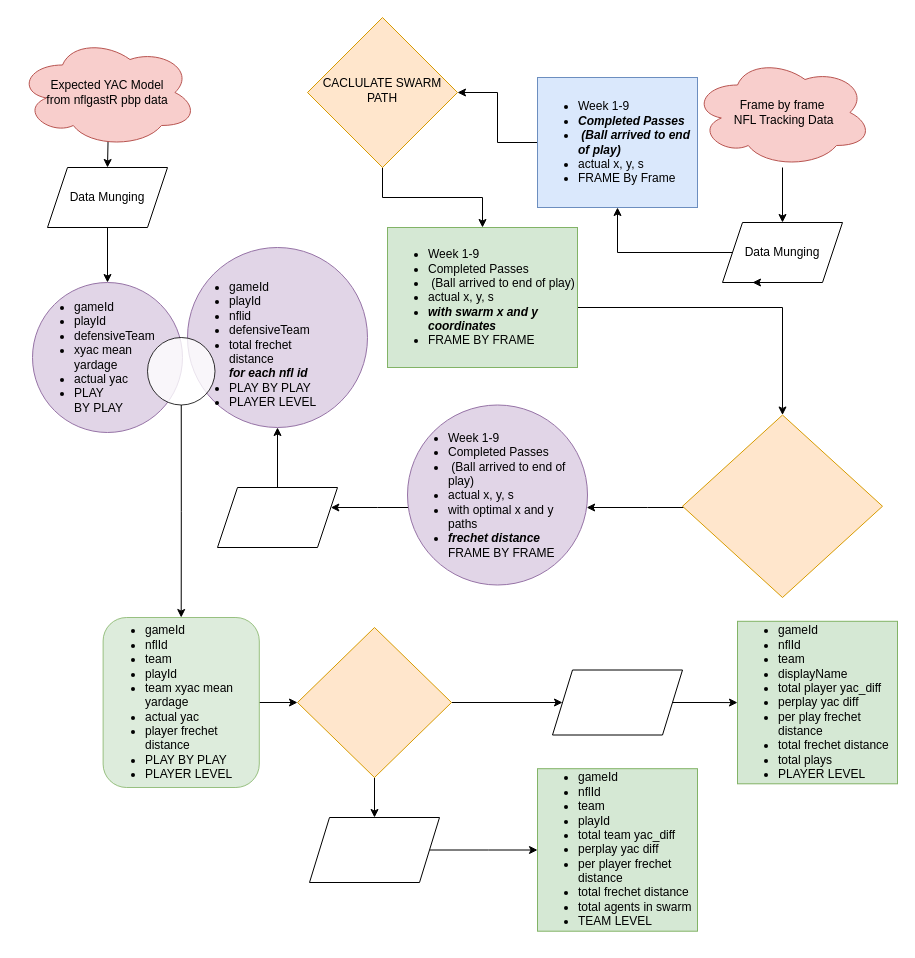
The diagram is 915 pixels wide and 958 high, and some of its shapes have lost their labels. The centre of each missing label's shape, as x and y in pixels:
"Aggregate to play level" belongs at (x=277, y=517).
"Aggregate to player level" belongs at (x=617, y=702).
"Aggregate to team level" belongs at (x=374, y=849).
"CALCULATE FRECHET DISTANCE" belongs at (x=782, y=506).
"merge on play id gameId" belongs at (x=180, y=370).
"PASTA CALCULATION 🍝" belongs at (x=374, y=702).
